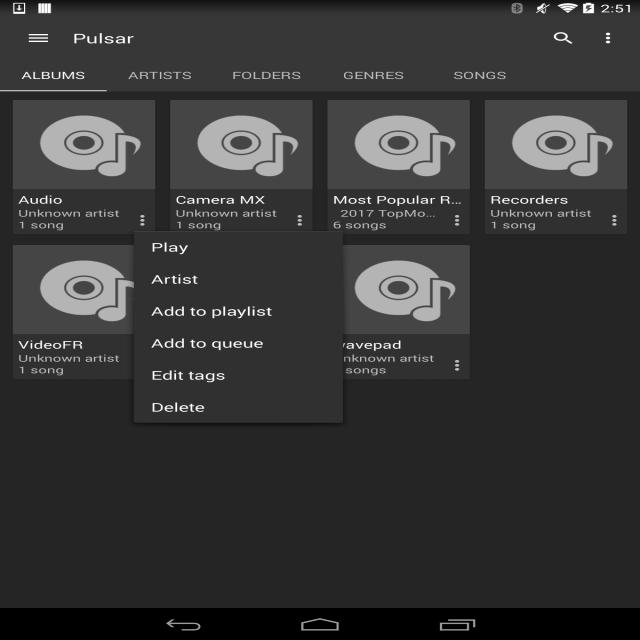ImageButton: (542, 28, 581, 50), (20, 29, 55, 44), (449, 354, 468, 376), (596, 30, 613, 49), (450, 212, 466, 230)
ImageView: (35, 109, 146, 182), (506, 110, 612, 181), (348, 256, 456, 322), (344, 115, 453, 178)
TextView: (172, 193, 284, 222), (488, 189, 595, 219), (17, 338, 126, 364), (144, 302, 289, 320), (224, 65, 308, 86), (122, 64, 200, 82), (70, 30, 144, 48), (142, 368, 225, 382), (450, 67, 512, 83), (143, 236, 198, 254)
